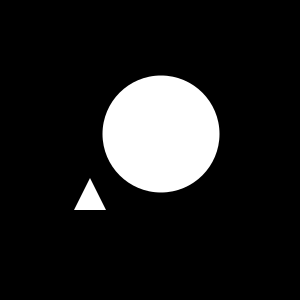rectangle: (102, 76, 220, 192)
triangle: (74, 178, 106, 210)
